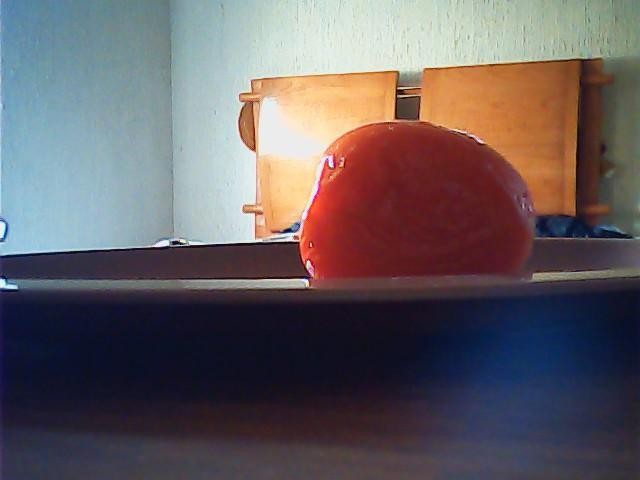maduro: (301, 119, 537, 285)
